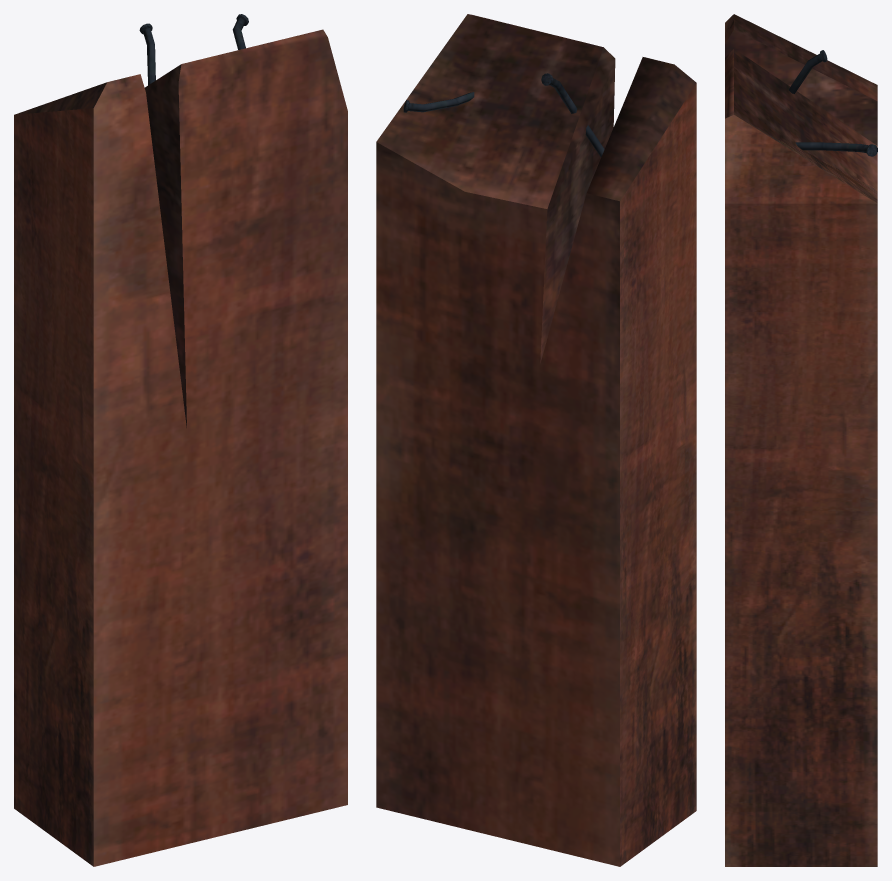
The model's file is table_waitroom_damaged_leg02.dae.
The picture shows the model from 3 angles, left to right: view 1: azimuth 30°, elevation 25°; view 2: azimuth 150°, elevation 25°; view 3: azimuth 270°, elevation 25°; orthographic projection. The views are drawn at different scales.
Parts seen in each view (by area): view 1: polySurface288; view 2: polySurface288; view 3: polySurface288.
Boxes of the visible parts, x1,y1,x2,y2 form: polySurface288: [14, 14, 347, 866]; polySurface288: [376, 14, 696, 866]; polySurface288: [725, 14, 877, 866].
Bounding box in the file's own units: 23.72 × 69.61 × 12.93.
